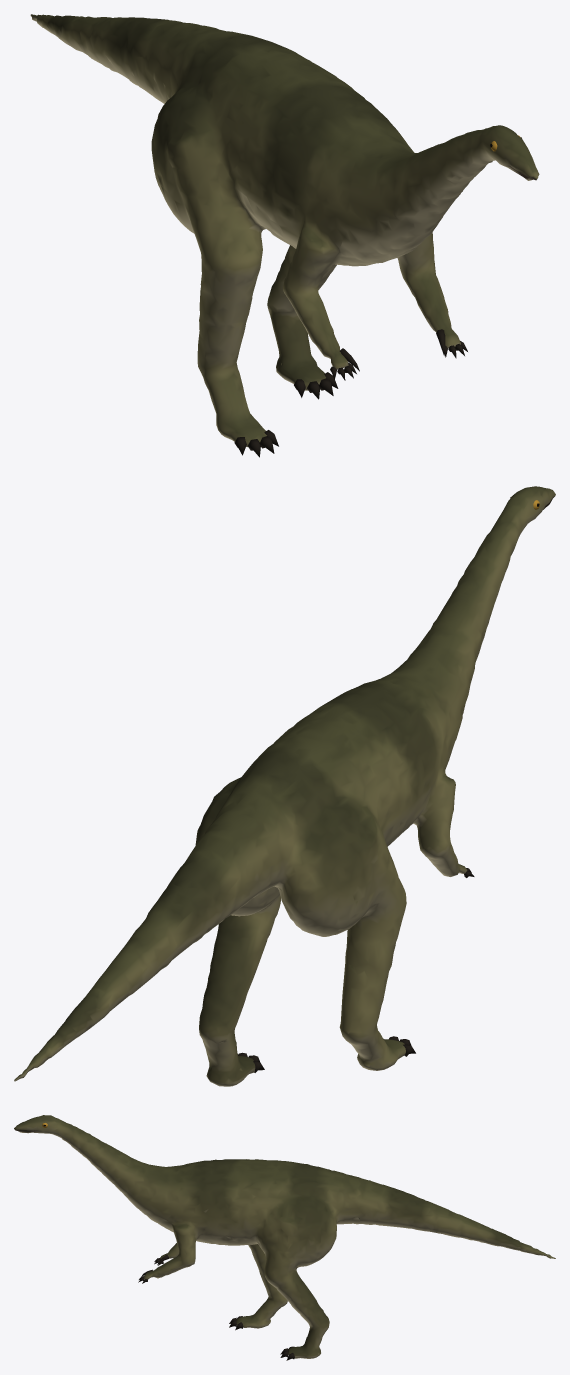
Rendered from Plateosaurus.fbx.
3 views of the same model, one above another, from view 1: azimuth 30°, elevation 25°; view 2: azimuth 150°, elevation 25°; view 3: azimuth 270°, elevation 25° (orthographic). The views are drawn at different scales.
Visible parts, largest first — view 1: Plateosaurus; view 2: Plateosaurus; view 3: Plateosaurus.
Boxes of the visible parts, x1=… form: Plateosaurus: x1=30, y1=14, x2=539, y2=457; Plateosaurus: x1=14, y1=486, x2=555, y2=1086; Plateosaurus: x1=14, y1=1115, x2=555, y2=1360.
Bounding box in the file's own units: 0.3667 × 0.9133 × 1.97.
